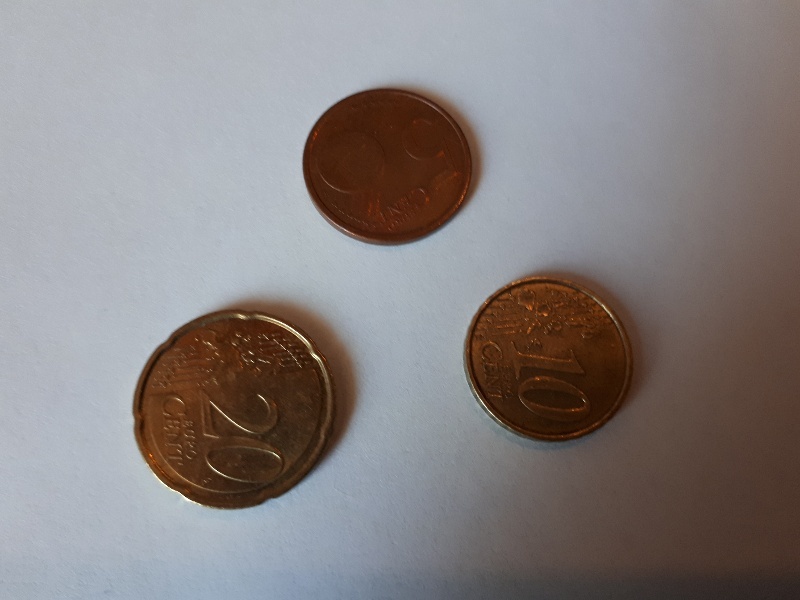10 cent: (461, 273, 637, 445)
20 cent: (126, 307, 341, 517)
5 cent: (301, 84, 478, 249)
